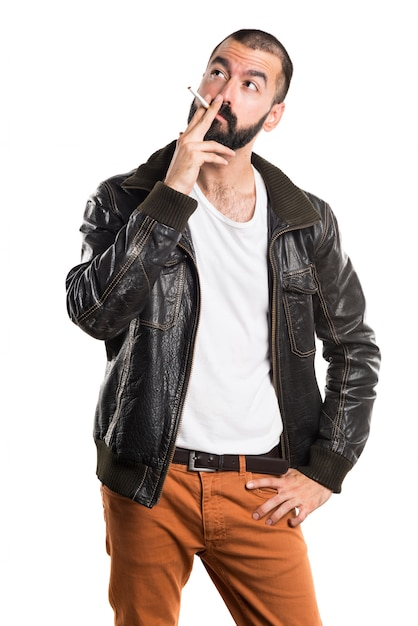cigarette: (184, 81, 213, 112)
